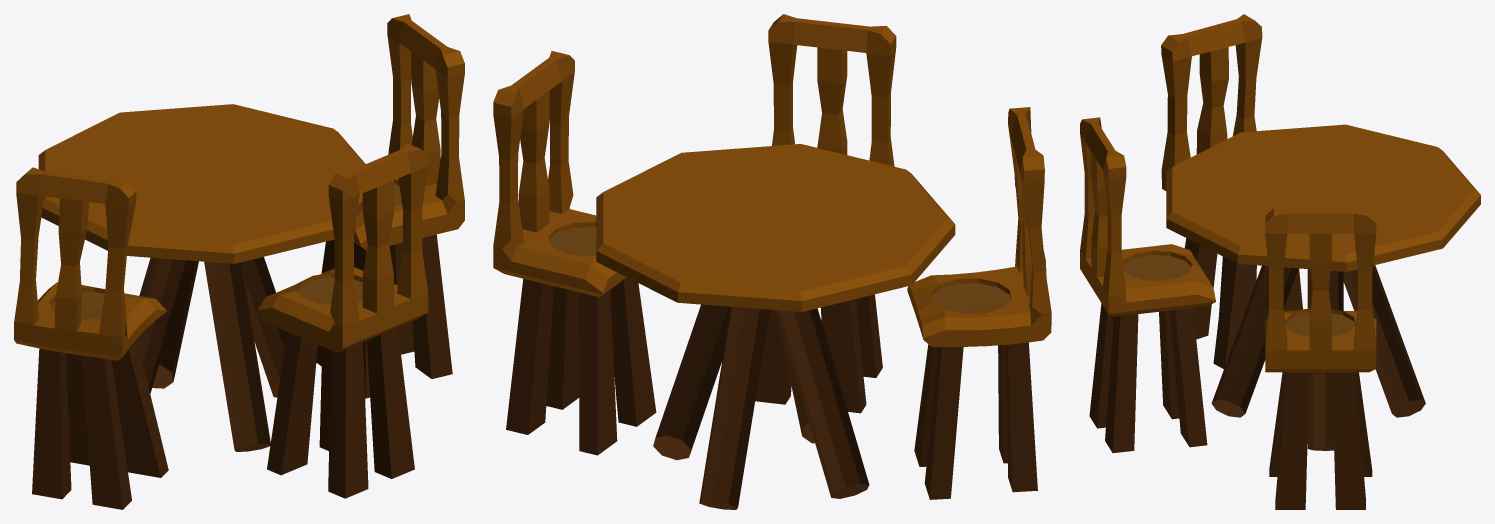
File: Table_with_chairs.fbx
3 views of the same model, side by side, from view 1: azimuth 30°, elevation 25°; view 2: azimuth 150°, elevation 25°; view 3: azimuth 270°, elevation 25° (orthographic). The views are drawn at different scales.
Visible parts, largest first — view 1: Table_K; view 2: Table_K; view 3: Table_K.
Boxes of the visible parts, left/top/right/bottom form: Table_K: left=14, top=14, right=464, bottom=509; Table_K: left=493, top=14, right=1051, bottom=509; Table_K: left=1080, top=14, right=1480, bottom=509.
Size of the model in its own units: 644 by 440 by 526.
